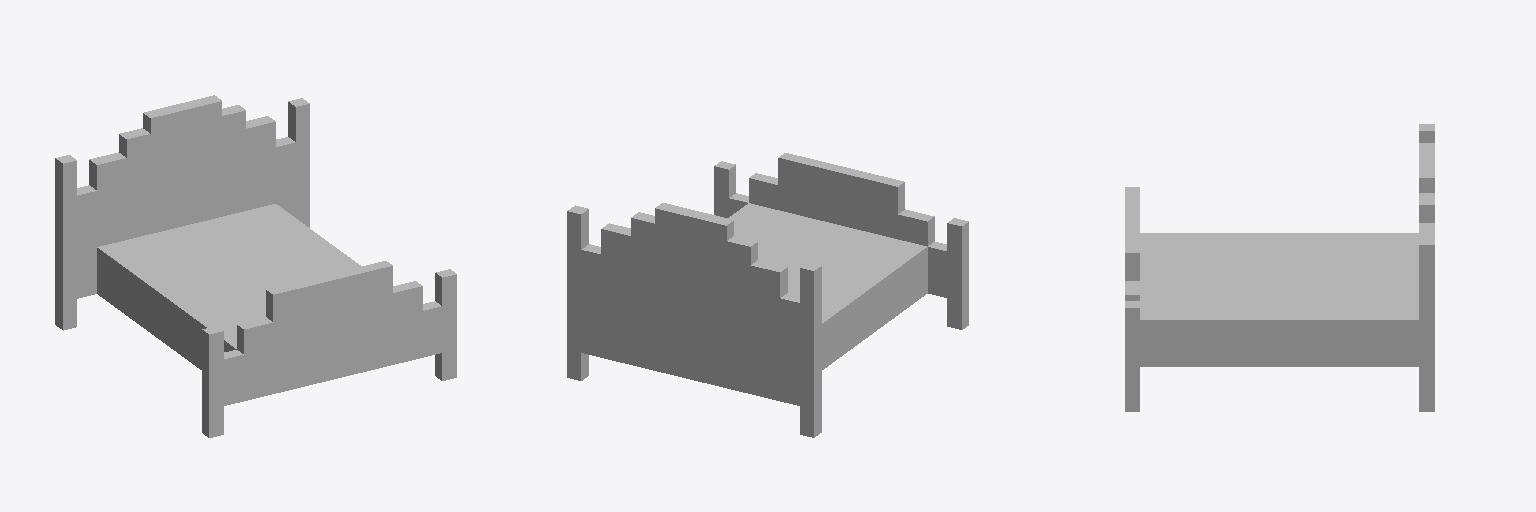
File: bed.obj
3 renders of one model, left to right at view 1: azimuth 30°, elevation 25°; view 2: azimuth 150°, elevation 25°; view 3: azimuth 270°, elevation 25°, orthographic.
Visible parts, largest first — view 1: pCube1; view 2: pCube1; view 3: pCube1.
Part boxes in pixels (x1,y1,x2,y2): pCube1: (55,95,456,437); pCube1: (567,153,968,437); pCube1: (1125,124,1434,411).
Bounding box in the file's own units: 20.41 × 15.03 × 22.03.